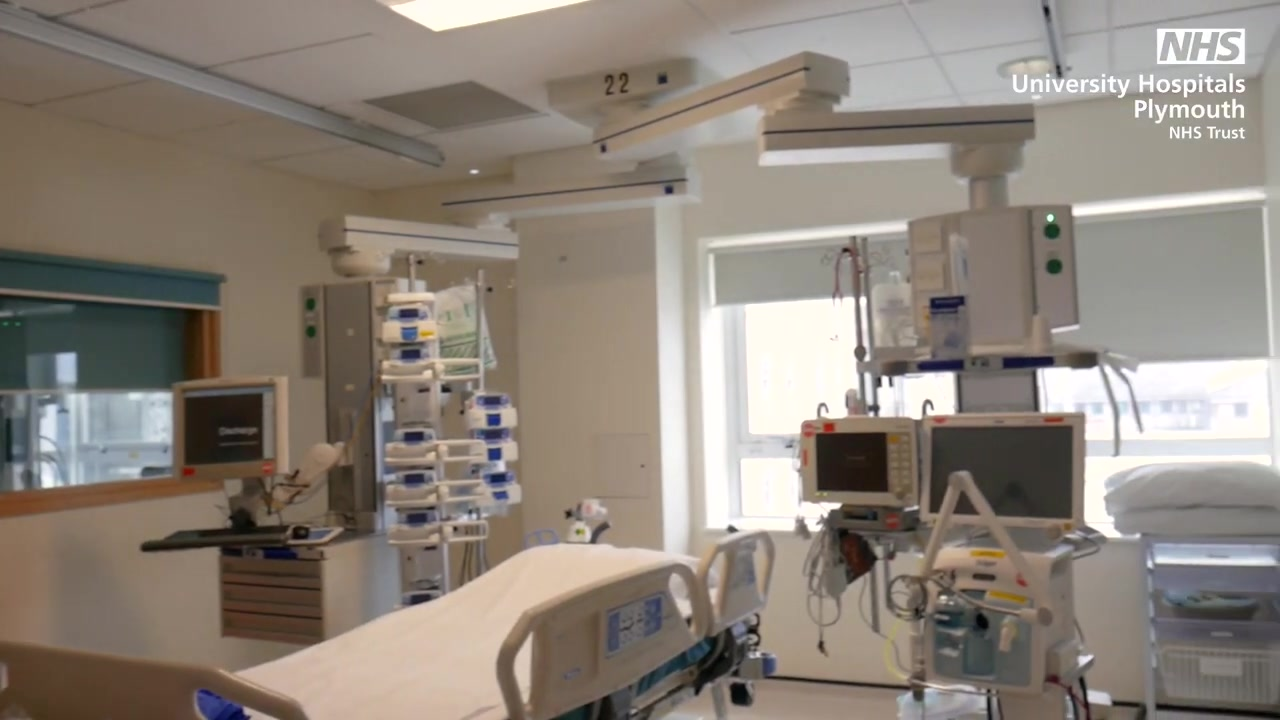bedrail: (495, 558, 709, 720), (695, 529, 776, 636)
bedside_monitor: (920, 411, 1085, 531), (799, 418, 918, 508)
computer: (171, 376, 290, 481)
drawer: (222, 549, 391, 639)
foot_board: (1, 643, 306, 720)
hospital_bed: (1, 542, 776, 720)
iv_pole: (820, 234, 893, 415), (449, 263, 514, 389), (394, 251, 436, 291)
keyboard: (163, 525, 293, 545)
mouse: (293, 525, 310, 540)
syringe_pump: (378, 304, 437, 344), (380, 347, 439, 386), (465, 391, 519, 428), (383, 428, 438, 464), (387, 508, 441, 544), (385, 470, 439, 506), (475, 471, 523, 505), (470, 430, 520, 461)
utility_cart: (1138, 532, 1280, 720)
ventilator: (919, 550, 1078, 720)
